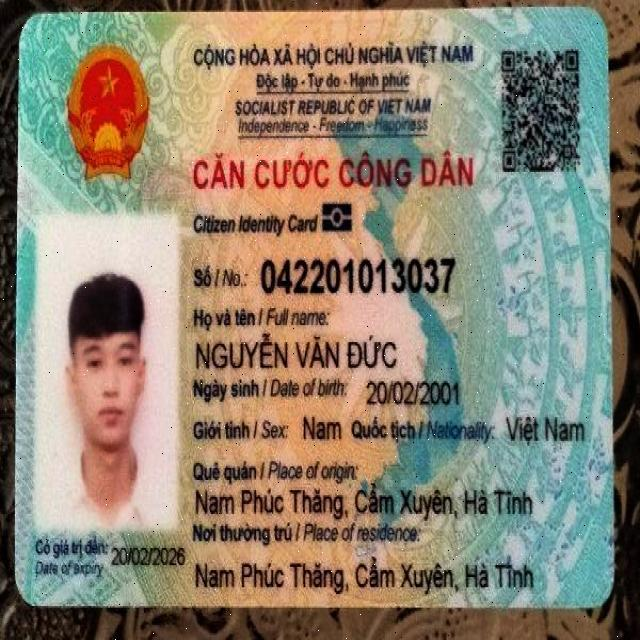current_place: (193, 555, 536, 596)
dob: (358, 379, 463, 408)
expire_date: (107, 540, 187, 571)
gender: (299, 409, 346, 442)
id: (256, 248, 457, 300)
name: (193, 332, 401, 373)
nationality: (501, 404, 591, 450)
origin_place: (195, 481, 535, 522)
qr: (499, 45, 584, 178)
